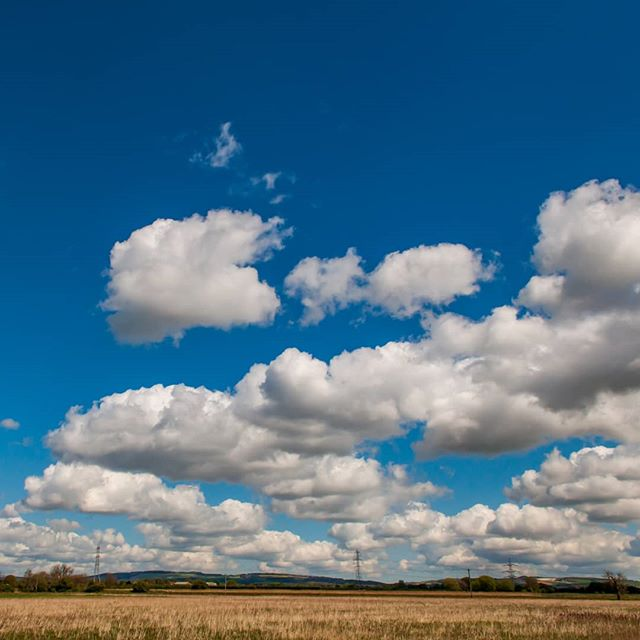grass: (17, 586, 640, 640)
sky: (1, 1, 640, 555)
